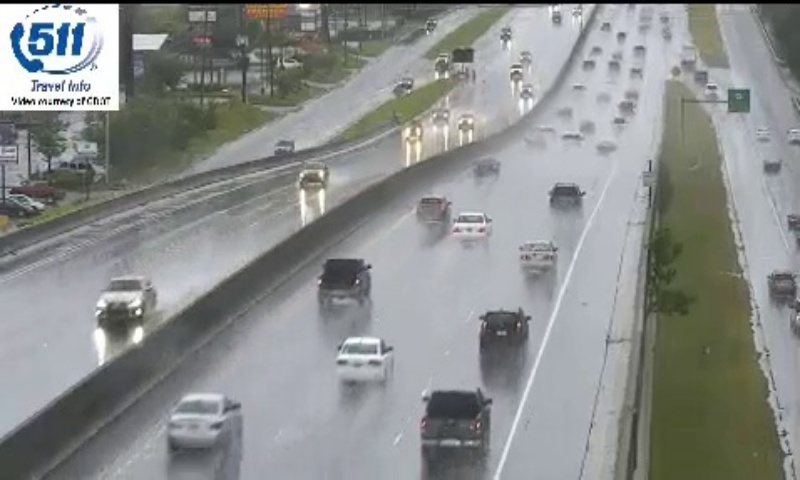car: (420, 386, 492, 460), (167, 392, 242, 449), (338, 335, 391, 382), (478, 308, 530, 352), (316, 259, 369, 300), (517, 240, 555, 272), (453, 211, 490, 243)
